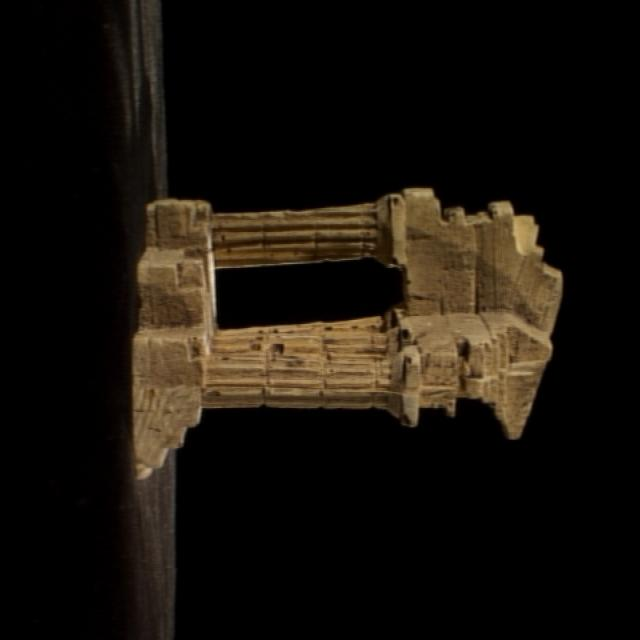Instance-Segmentation: (133, 188, 562, 477)
